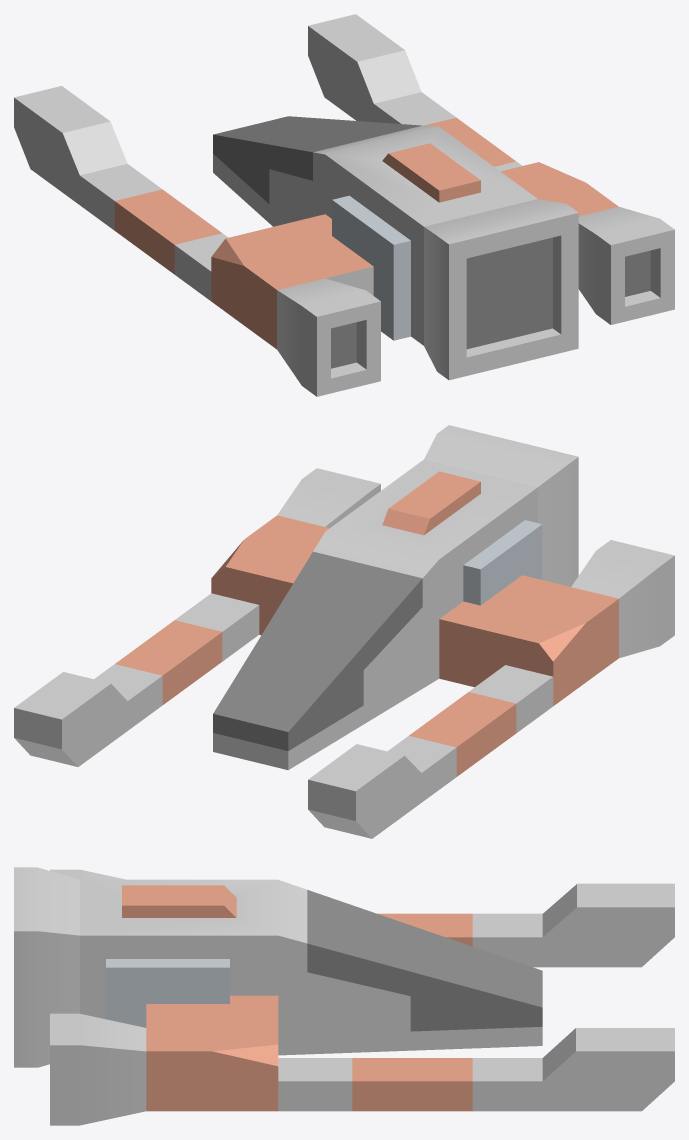
File: spaceCraft2.glb
The picture shows the model from 3 angles, top to bottom: view 1: azimuth 30°, elevation 25°; view 2: azimuth 150°, elevation 25°; view 3: azimuth 270°, elevation 25°; orthographic projection.
Parts seen in each view (by area): view 1: spaceCraft2_8angles; view 2: spaceCraft2_8angles; view 3: spaceCraft2_8angles.
Part boxes in pixels (x1,y1,x2,y2): spaceCraft2_8angles: (14,14,674,396); spaceCraft2_8angles: (14,425,674,838); spaceCraft2_8angles: (14,867,674,1125).
Bounding box in the file's own units: 12.41 × 4.69 × 19.75.
